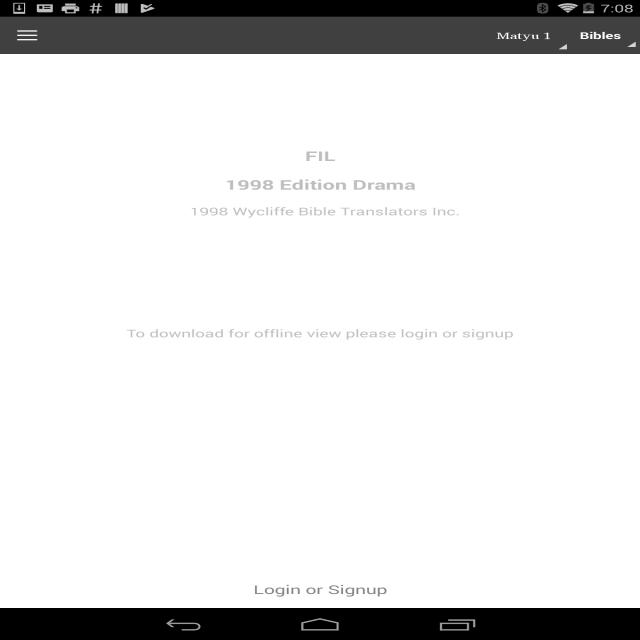Button: (0, 570, 640, 608)
ImageButton: (6, 566, 49, 596)
ImageView: (370, 408, 427, 456), (20, 424, 42, 441), (0, 30, 37, 40), (402, 576, 430, 588), (211, 576, 237, 588), (21, 474, 43, 488), (311, 573, 329, 590), (302, 60, 338, 68), (558, 44, 567, 49), (627, 42, 636, 47), (34, 35, 51, 36)
TextView: (0, 316, 640, 570), (0, 193, 640, 229), (0, 165, 640, 193), (0, 146, 640, 164), (64, 463, 262, 499), (65, 425, 146, 440), (497, 27, 562, 44), (580, 29, 631, 42)
